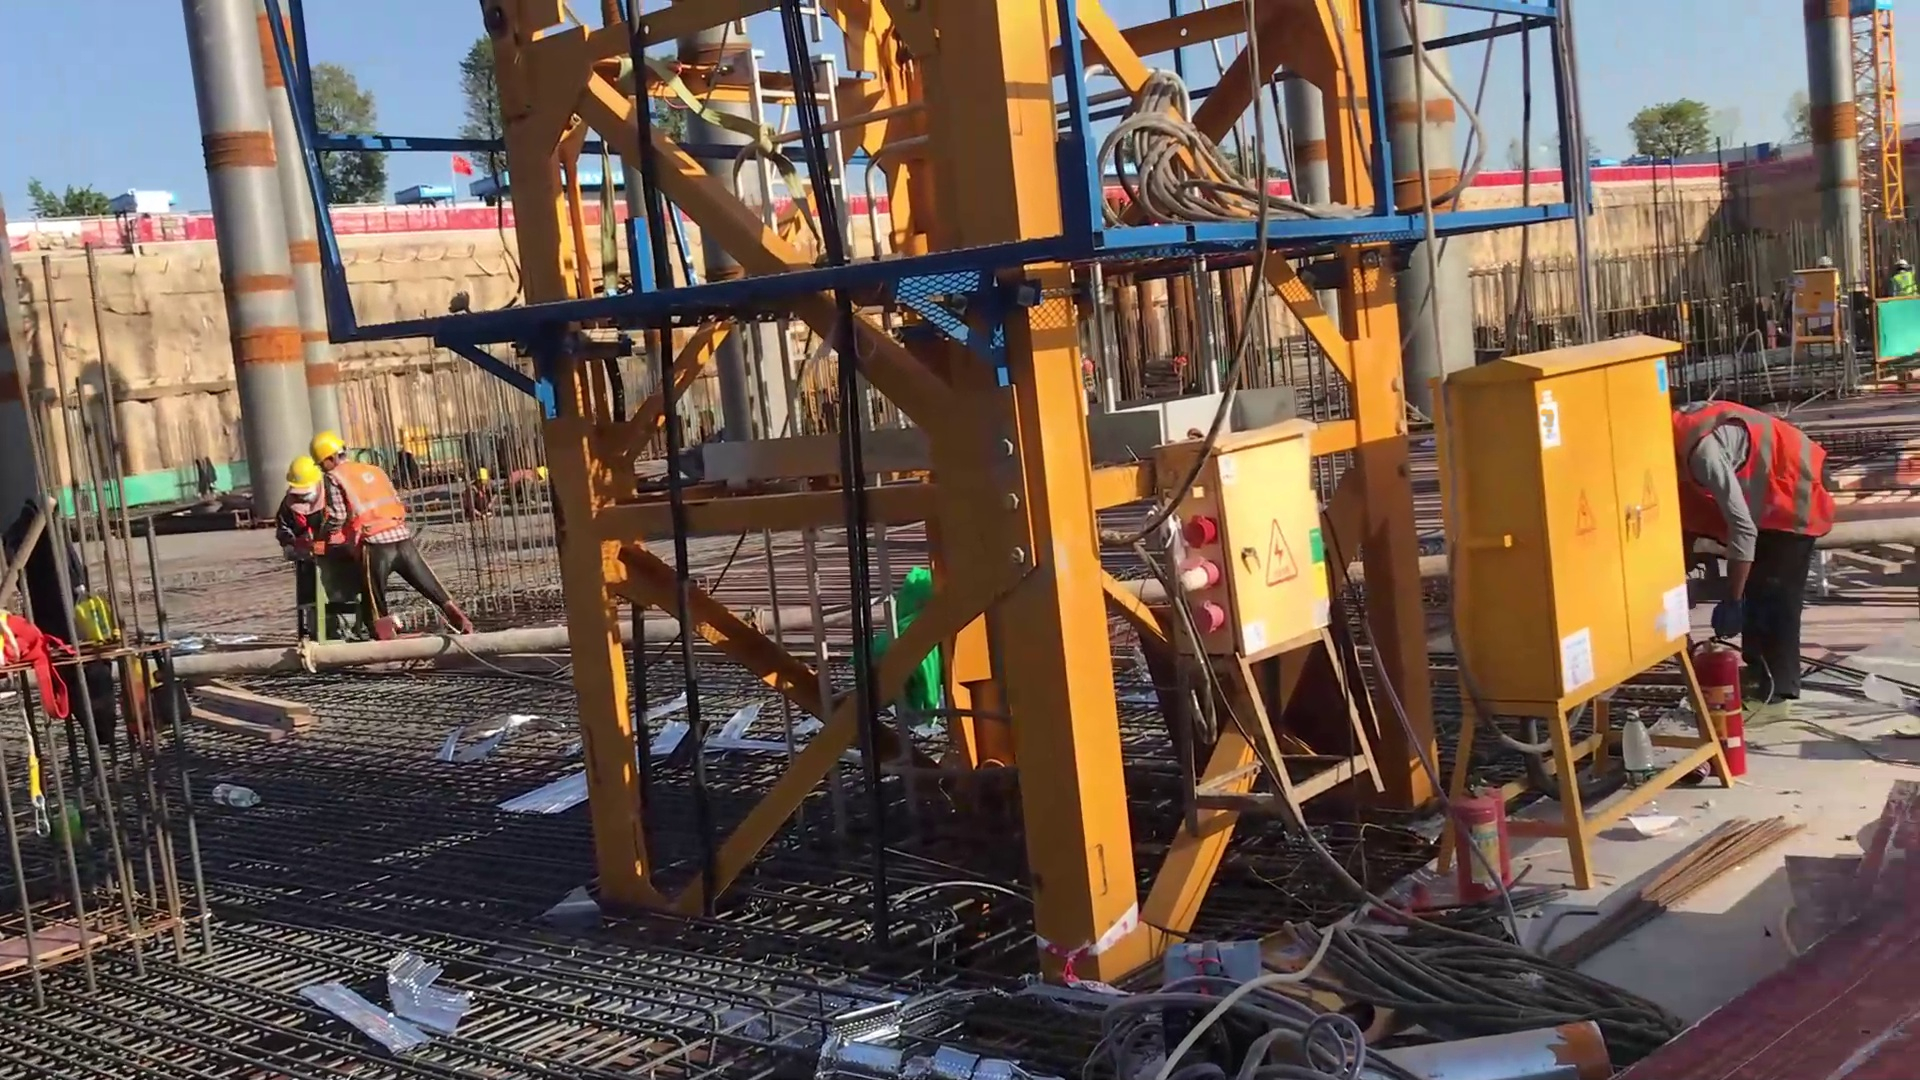ebox: (1436, 338, 1744, 757), (1170, 438, 1393, 766), (1788, 255, 1848, 367)
fence: (336, 207, 498, 239), (1600, 162, 1711, 184), (1470, 169, 1558, 191)
helmet: (305, 429, 349, 466), (286, 453, 327, 487)
person: (1676, 396, 1825, 723), (312, 431, 492, 643), (274, 454, 348, 634)
vest: (1680, 400, 1833, 541), (329, 462, 408, 535), (278, 491, 347, 550)
